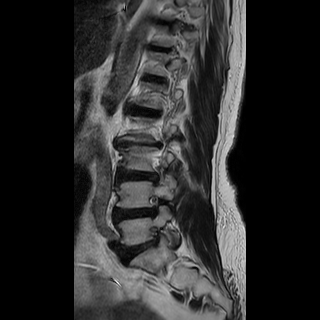LFS2: (141, 190, 165, 220)
